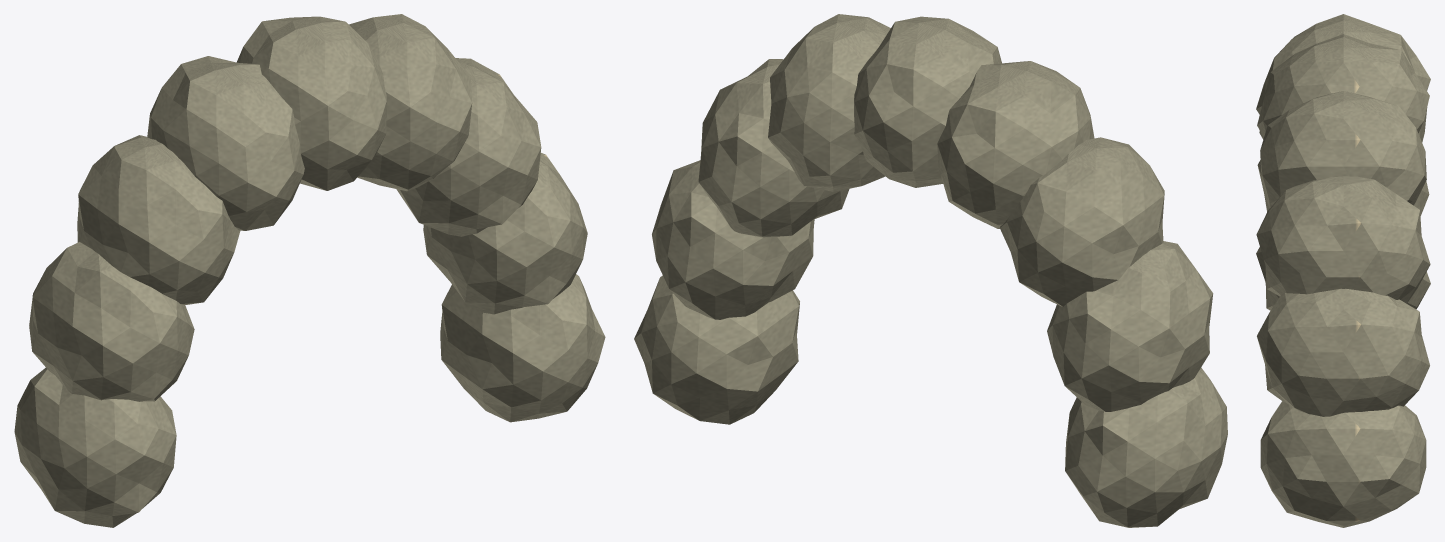
The model's file is stone_arch.glb.
3 views of the same model, side by side, from view 1: azimuth 30°, elevation 25°; view 2: azimuth 150°, elevation 25°; view 3: azimuth 270°, elevation 25° (orthographic). The views are drawn at different scales.
Parts seen in each view (by area): view 1: static_ornament; view 2: static_ornament; view 3: static_ornament.
Part boxes in pixels (left/top/right/bottom): static_ornament: left=14, top=14, right=605, bottom=527; static_ornament: left=634, top=14, right=1227, bottom=527; static_ornament: left=1256, top=14, right=1430, bottom=527.
Size of the model in its own units: 1.59 by 1.2 by 0.487.
1 material, 1 textured.
